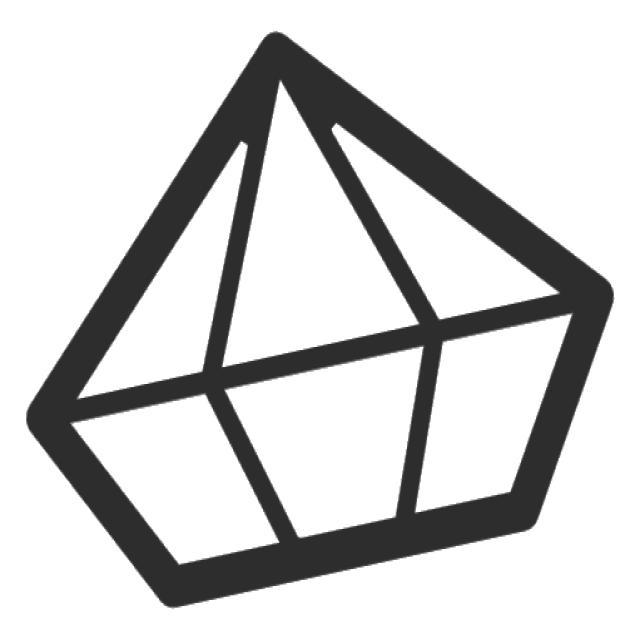diamond: (14, 15, 625, 624)
